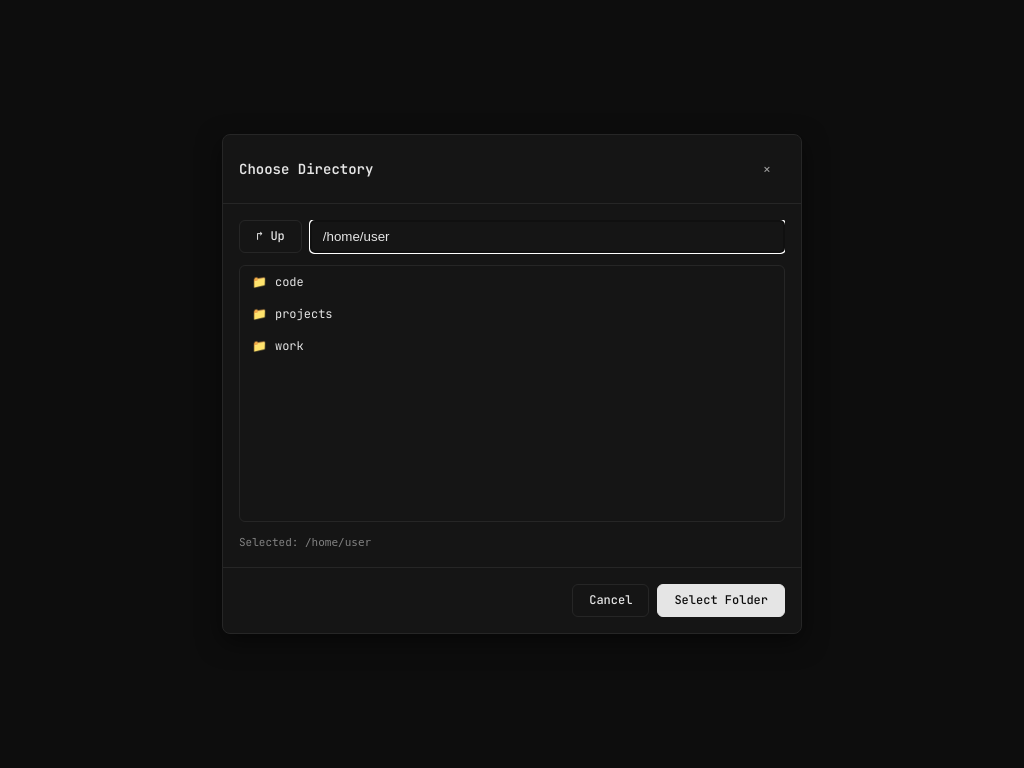
Scenario: FolderChooserDialog › keeps focus in the path field while typing a path with listable children
This screenshot has width=1024, height=768.
Expected: the text "projects" is shown, [275,306,333,322]
Type "/projects" into the field with placeholder "Type path...". click: [547, 236]
box: [310,220,785,253]
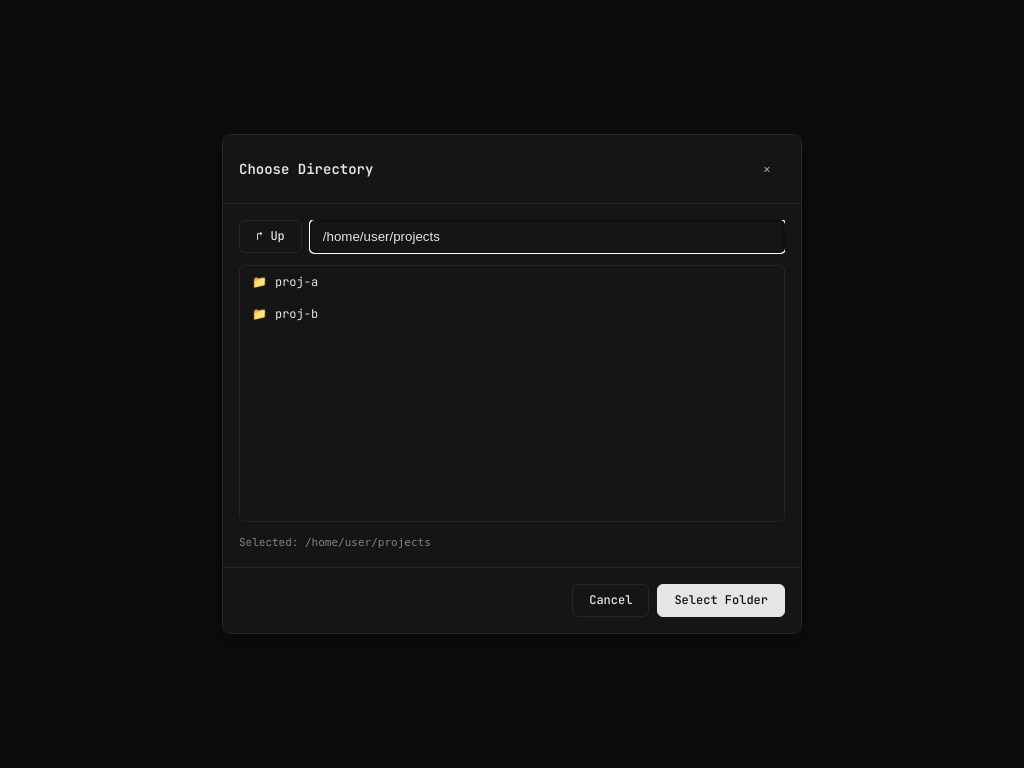
Now the field with placeholder "Type path..." holds "/home/user/projects", box [310,220,785,253]
Now the text "proj-a" is shown, box [275,274,318,290]
